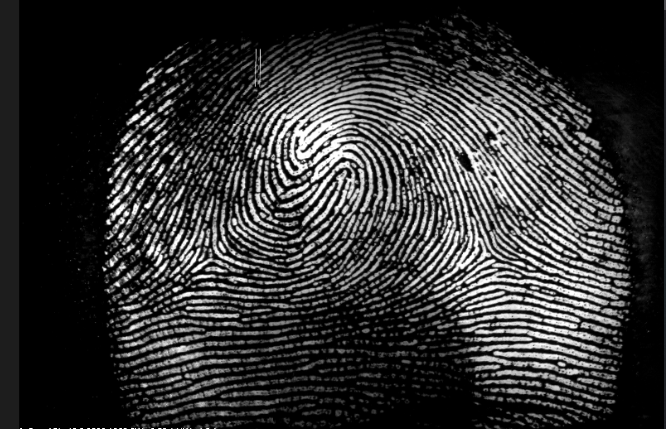deltas: (456, 222, 515, 285), (188, 230, 239, 281)
nucleo: (272, 120, 377, 205)
